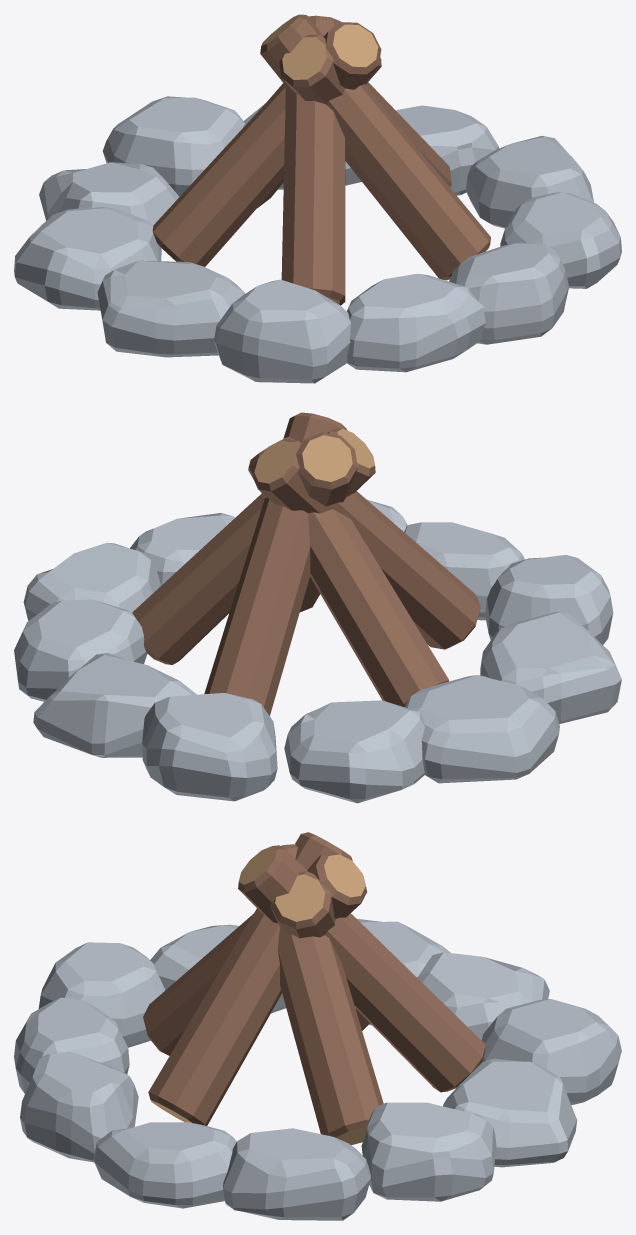
The model's file is Env_Campfire.glb.
3 renders of one model, top to bottom at view 1: azimuth 30°, elevation 25°; view 2: azimuth 150°, elevation 25°; view 3: azimuth 270°, elevation 25°, orthographic. The views are drawn at different scales.
Parts seen in each view (by area): view 1: Env_Campfire_Stones, Env_Campfire_Logs; view 2: Env_Campfire_Stones, Env_Campfire_Logs; view 3: Env_Campfire_Stones, Env_Campfire_Logs.
Boxes of the visible parts, x1=… form: Env_Campfire_Stones: x1=14, y1=96, x2=621, y2=383; Env_Campfire_Logs: x1=152, y1=14, x2=490, y2=305; Env_Campfire_Stones: x1=14, y1=499, x2=621, y2=803; Env_Campfire_Logs: x1=132, y1=412, x2=480, y2=715; Env_Campfire_Stones: x1=14, y1=918, x2=621, y2=1220; Env_Campfire_Logs: x1=143, y1=832, x2=485, y2=1145.
Size of the model in its own units: 0.7817 by 0.3545 by 0.7715.
